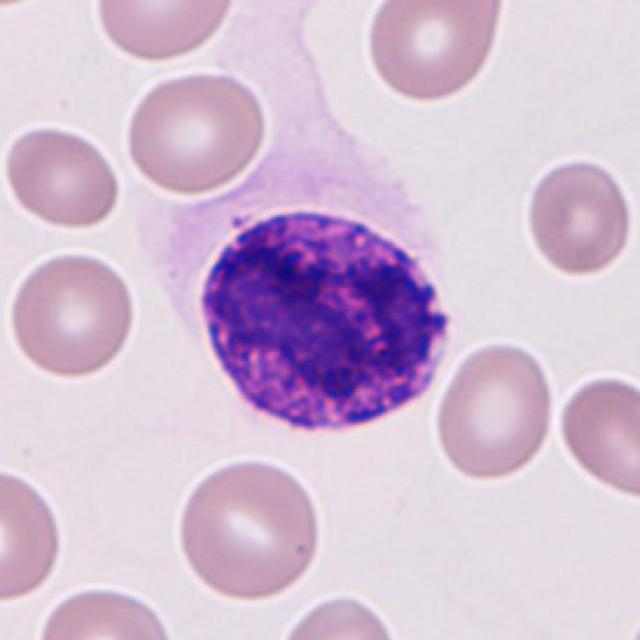Basophil: (182, 191, 468, 444)
RBC: (171, 453, 327, 605), (121, 66, 271, 198), (3, 245, 142, 382), (432, 336, 558, 484), (362, 0, 509, 106), (521, 153, 637, 281), (0, 118, 126, 232), (554, 369, 640, 503), (0, 461, 68, 609), (89, 0, 241, 66), (31, 577, 180, 640), (273, 589, 404, 640), (225, 0, 342, 29), (0, 0, 68, 14)
